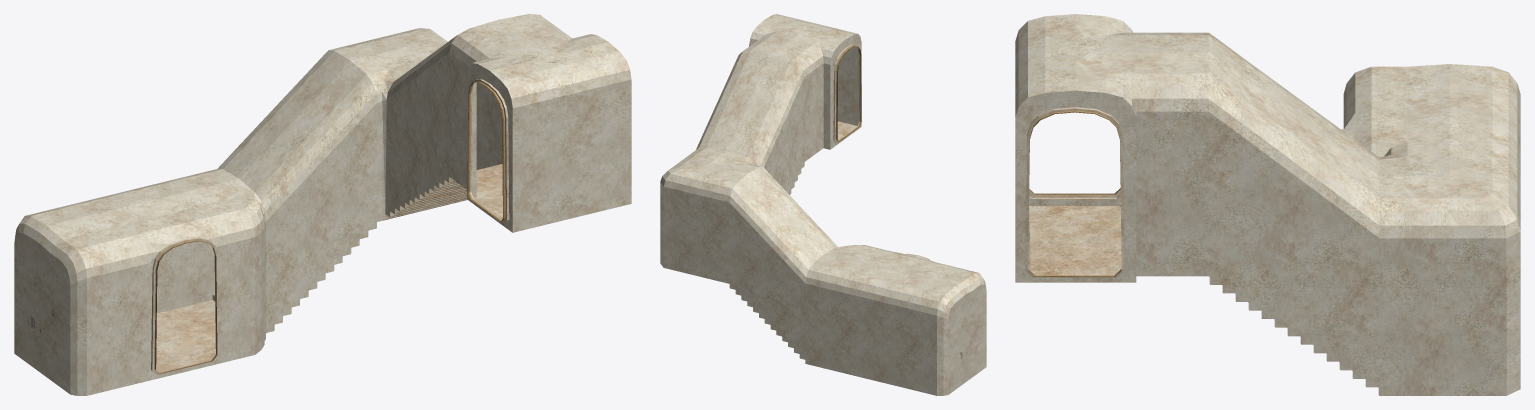
Rendered from ply_tato_house_m_s01_fp1_r4_stair1_mesh_r4.fbx.
3 views of the same model, side by side, from view 1: azimuth 30°, elevation 25°; view 2: azimuth 150°, elevation 25°; view 3: azimuth 270°, elevation 25° (orthographic). The views are drawn at different scales.
Visible parts, largest first — view 1: mesh_node; view 2: mesh_node; view 3: mesh_node.
Boxes of the visible parts, <box> form: mesh_node: <box>14,14,631,395</box>; mesh_node: <box>660,14,986,395</box>; mesh_node: <box>1015,14,1520,395</box>.
Size of the model in its own units: 11.01 by 7.85 by 8.35.
